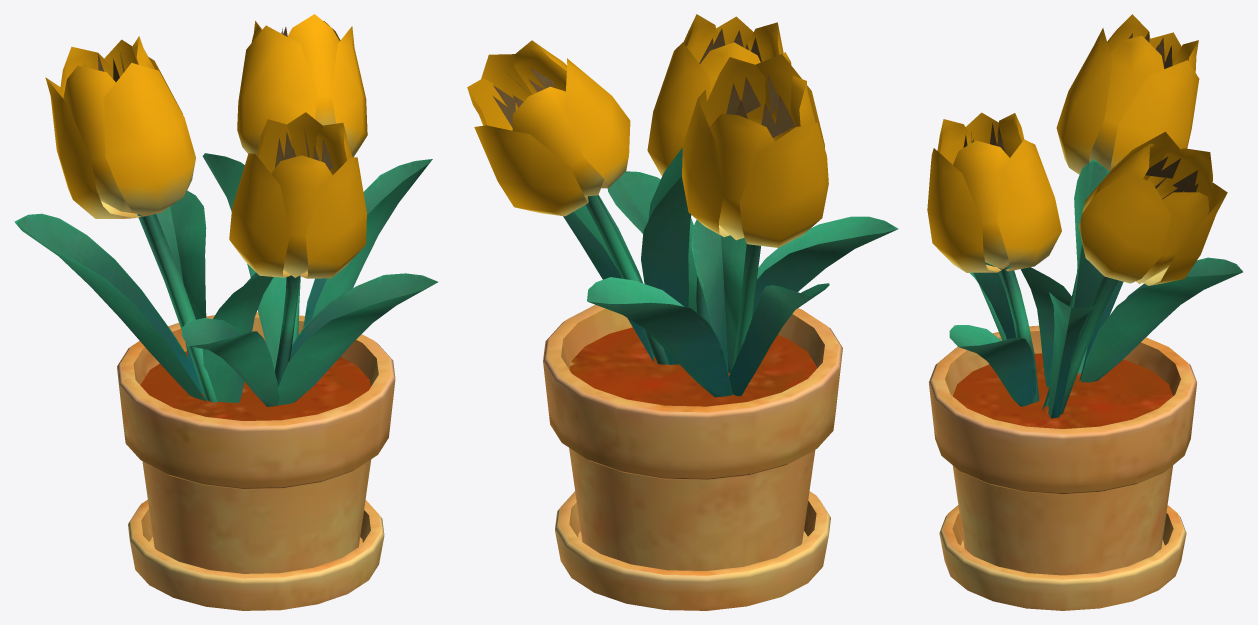
File: tulip_flower.glb
3 renders of one model, left to right at view 1: azimuth 30°, elevation 25°; view 2: azimuth 150°, elevation 25°; view 3: azimuth 270°, elevation 25°, orthographic. The views are drawn at different scales.
Visible parts, largest first — view 1: Object_5, Object_4, Object_3; view 2: Object_5, Object_4, Object_3; view 3: Object_5, Object_4, Object_3.
Part boxes in pixels (left/top/right/bottom): Object_5: left=117, top=312, right=395, bottom=610; Object_4: left=45, top=14, right=367, bottom=278; Object_3: left=14, top=153, right=437, bottom=406; Object_5: left=543, top=304, right=842, bottom=610; Object_4: left=467, top=14, right=828, bottom=247; Object_3: left=563, top=148, right=898, bottom=397; Object_5: left=928, top=325, right=1197, bottom=610; Object_4: left=927, top=14, right=1227, bottom=285; Object_3: left=949, top=159, right=1243, bottom=418.
Size of the model in its own units: 4.27 by 5.8 by 3.39.
3 materials, 3 textured.
